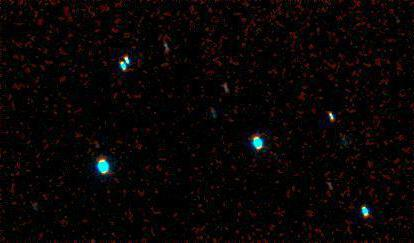star: (217, 76, 247, 106)
